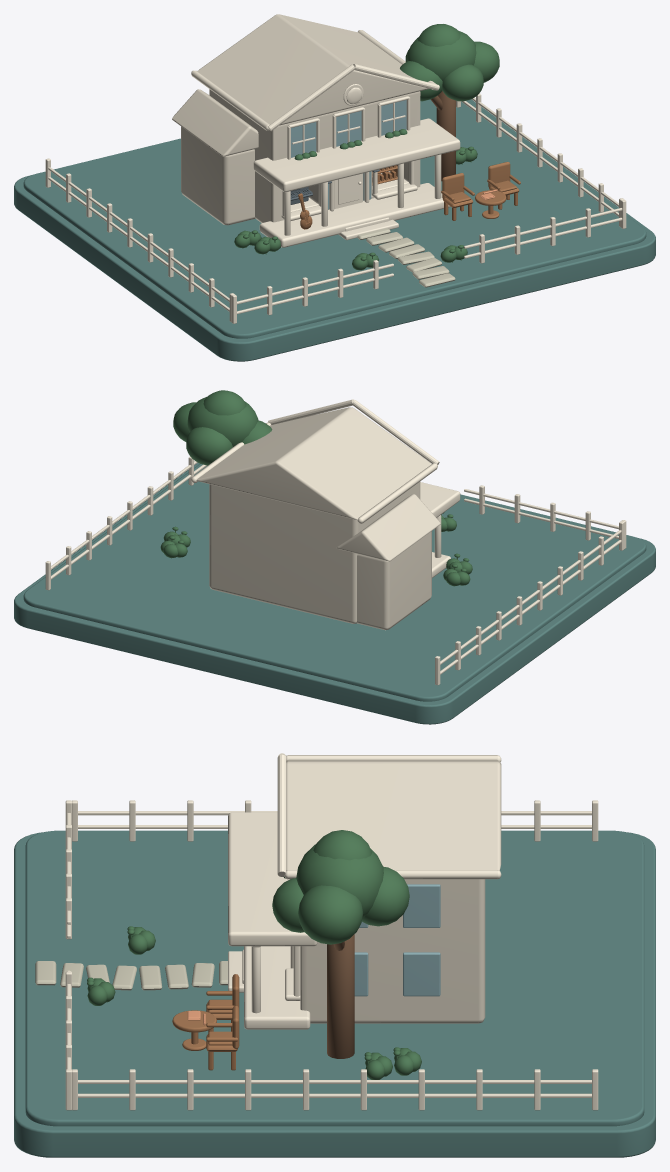
Rendered from summer_day_cottage.glb.
The picture shows the model from 3 angles, top to bottom: view 1: azimuth 30°, elevation 25°; view 2: azimuth 150°, elevation 25°; view 3: azimuth 270°, elevation 25°; orthographic projection. The views are drawn at different scales.
Parts seen in each view (by area): view 1: Ground, House, Porch, Yard_Fence, Tree_Crown, Garden_Furniture, Windows, Path, Summer_Decor, Tree_Trunk; view 2: Ground, House, Yard_Fence, Tree_Crown, Porch, Summer_Decor; view 3: Ground, House, Porch, Yard_Fence, Tree_Crown, Windows, Path, Tree_Trunk, Garden_Furniture, Summer_Decor.
Part boxes in pixels (<box>): Ground: <box>14,99,655,361</box>; House: <box>172,14,429,225</box>; Porch: <box>191,30,460,247</box>; Yard_Fence: <box>45,93,626,323</box>; Tree_Crown: <box>400,24,499,101</box>; Garden_Furniture: <box>441,162,520,220</box>; Windows: <box>291,100,406,209</box>; Path: <box>357,228,455,287</box>; Summer_Decor: <box>234,129,477,270</box>; Tree_Trunk: <box>430,91,455,181</box>; Ground: <box>14,463,655,724</box>; House: <box>196,407,440,630</box>; Yard_Fence: <box>45,456,626,685</box>; Tree_Crown: <box>173,390,272,465</box>; Porch: <box>191,399,460,577</box>; Summer_Decor: <box>160,512,472,586</box>; Ground: <box>14,830,655,1157</box>; House: <box>286,759,501,1023</box>; Porch: <box>228,753,501,1029</box>; Yard_Fence: <box>65,800,598,1110</box>; Tree_Crown: <box>272,830,409,944</box>; Windows: <box>354,884,440,996</box>; Path: <box>35,961,227,990</box>; Tree_Trunk: <box>327,934,354,1058</box>; Garden_Furniture: <box>172,974,239,1070</box>; Summer_Decor: <box>87,876,421,1079</box>.
Bounding box in the file's own units: 24.6 × 9.71 × 22.2.
